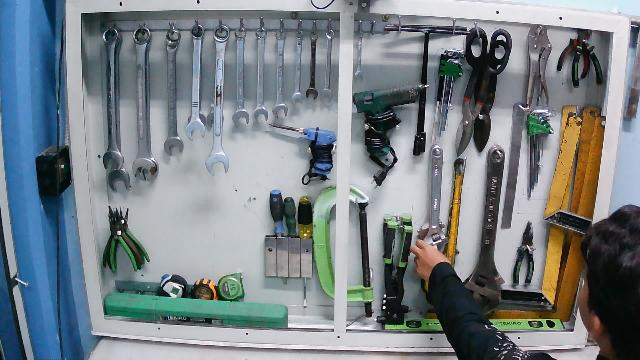kunci_inggris: (415, 143, 451, 278)
